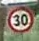limite 30: (5, 6, 33, 33)
